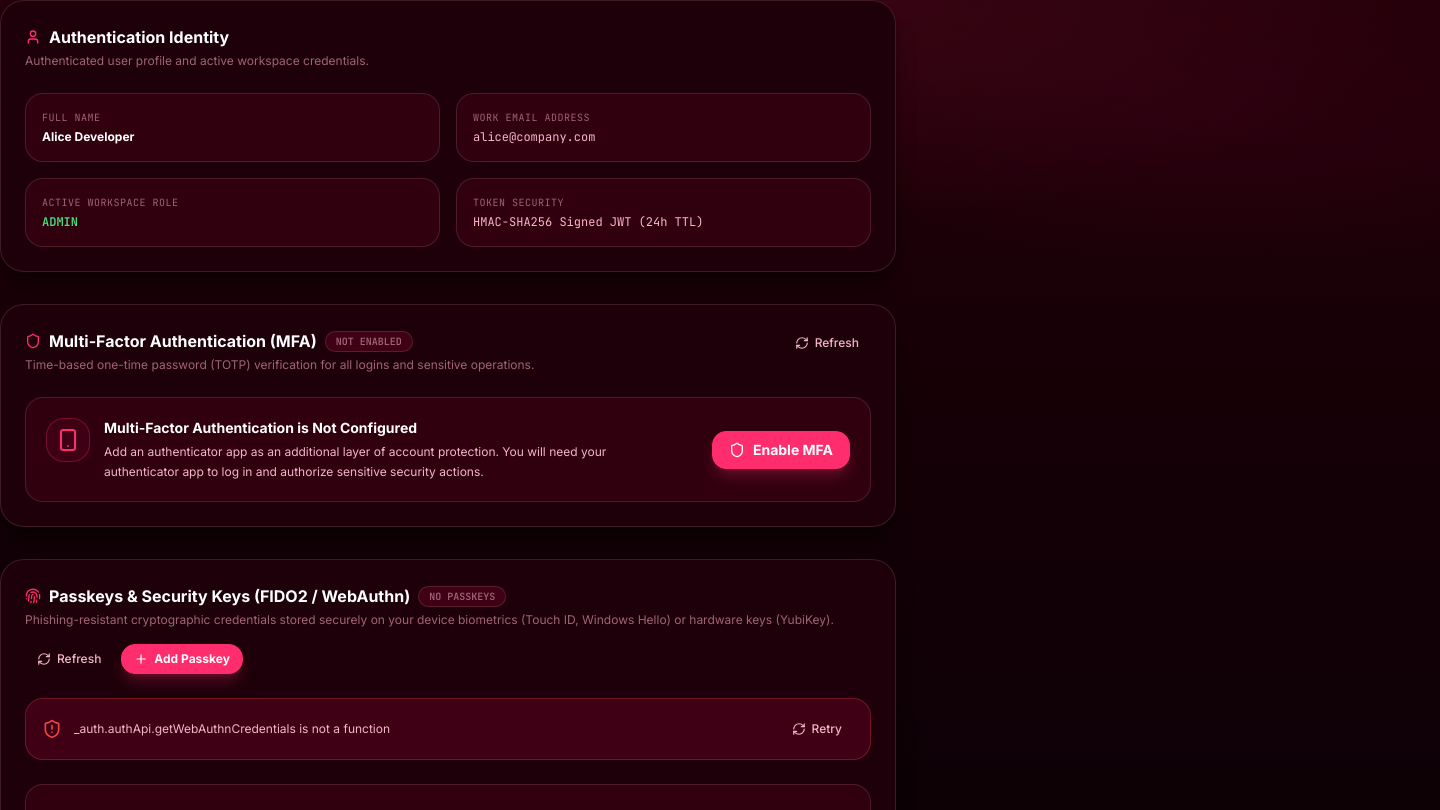
Test: AccountSecurityView Component › opens enrollment modal when clicking Enable MFA
Expected: the text "Enable MFA" is shown, x1=753 y1=440 x2=833 y2=460
Click the button "Enable MFA" at (781, 450), box x1=712 y1=430 x2=850 y2=468
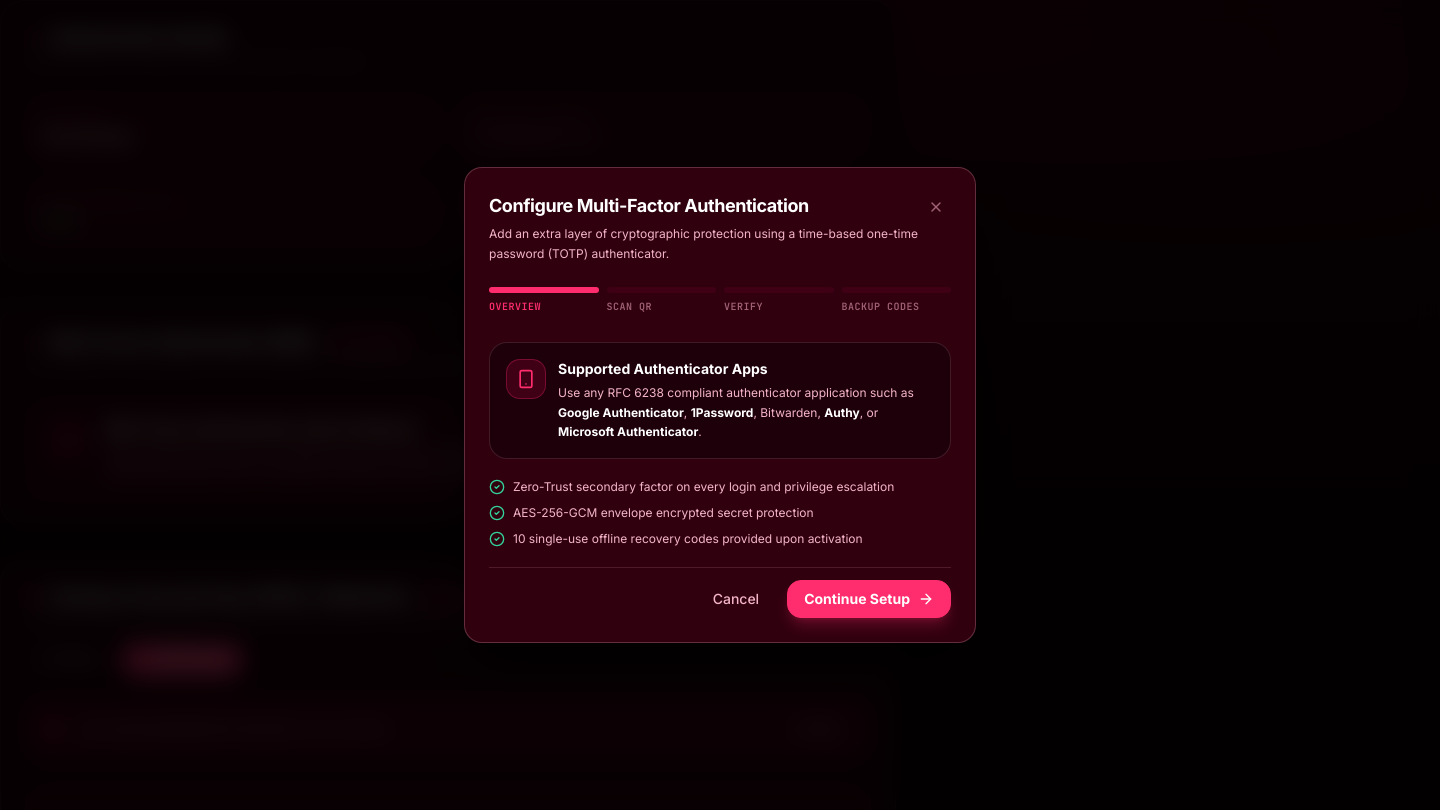
Expected: the heading "Configure Multi-Factor Authentication" is shown, x1=489 y1=195 x2=809 y2=216
